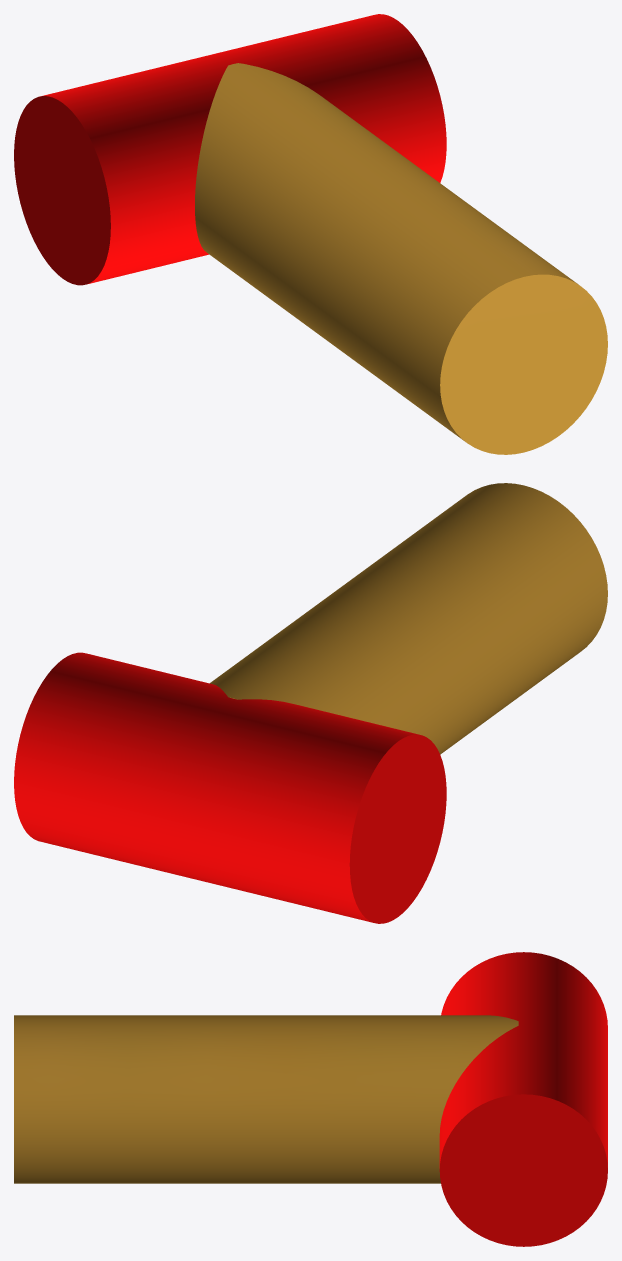
File: MazoTopo_obj.obj
3 views of the same model, one above another, from view 1: azimuth 30°, elevation 25°; view 2: azimuth 150°, elevation 25°; view 3: azimuth 270°, elevation 25° (orthographic). The views are drawn at different scales.
Parts seen in each view (by area): view 1: Mazo; view 2: Mazo; view 3: Mazo.
Part boxes in pixels (x1,y1,x2,y2): Mazo: (14,14,607,454); Mazo: (14,483,607,923); Mazo: (14,952,607,1246).
Size of the model in its own units: 2 by 1 by 3.53.
